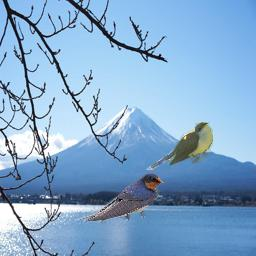Cuckoo: (145, 122, 213, 170)
Swallow: (75, 172, 165, 223)
